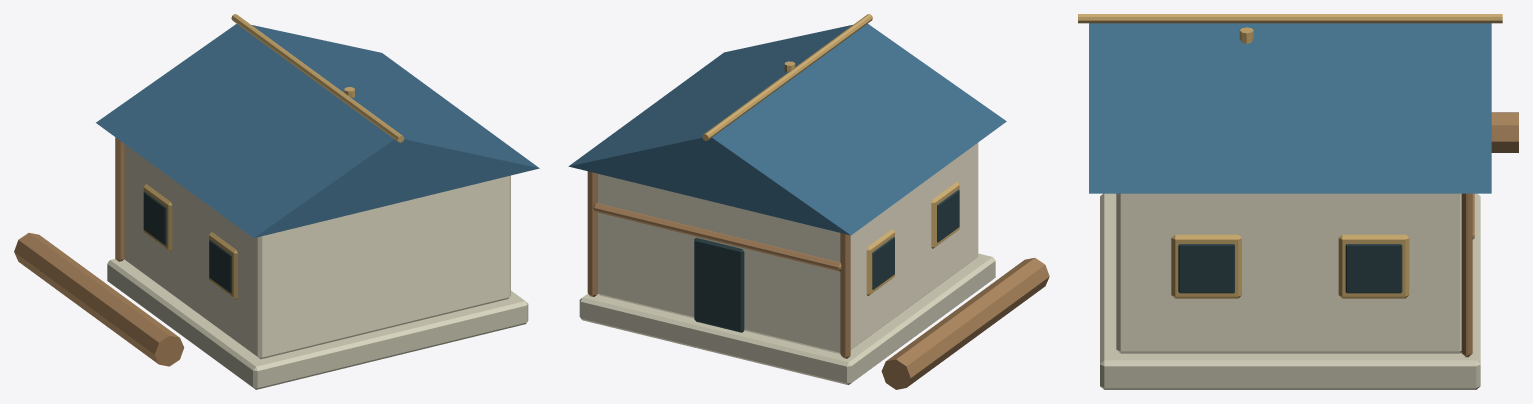
Rendered from level_02.glb.
The picture shows the model from 3 angles, left to right: view 1: azimuth 30°, elevation 25°; view 2: azimuth 150°, elevation 25°; view 3: azimuth 270°, elevation 25°; orthographic projection. The views are drawn at different scales.
Parts seen in each view (by area): view 1: timber_yard — level 02; view 2: timber_yard — level 02; view 3: timber_yard — level 02.
Boxes of the visible parts, x1,y1,x2,y2 form: timber_yard — level 02: (14,14,539,389); timber_yard — level 02: (568,14,1049,389); timber_yard — level 02: (1078,14,1518,389).
Bounding box in the file's own units: 4.84 × 2.96 × 4.05.
